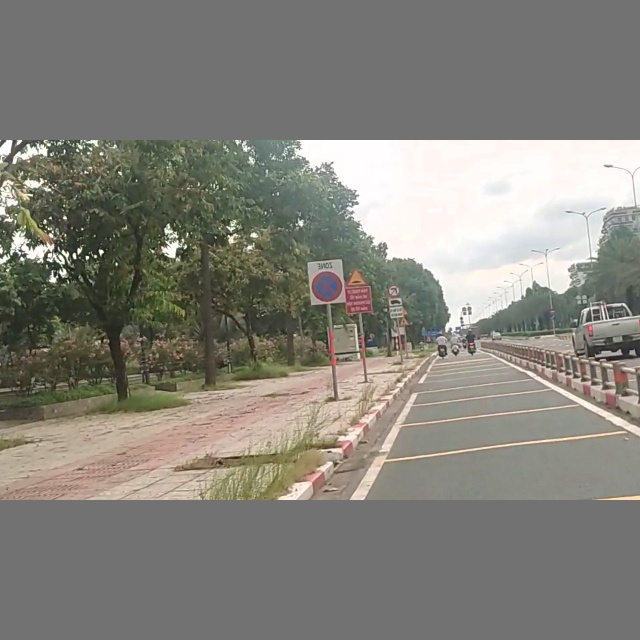P.123b: (388, 285, 401, 297)
P.130: (309, 259, 345, 306)
S.505a*Xe tai: (389, 297, 404, 319)
W.221b: (347, 268, 367, 286)
